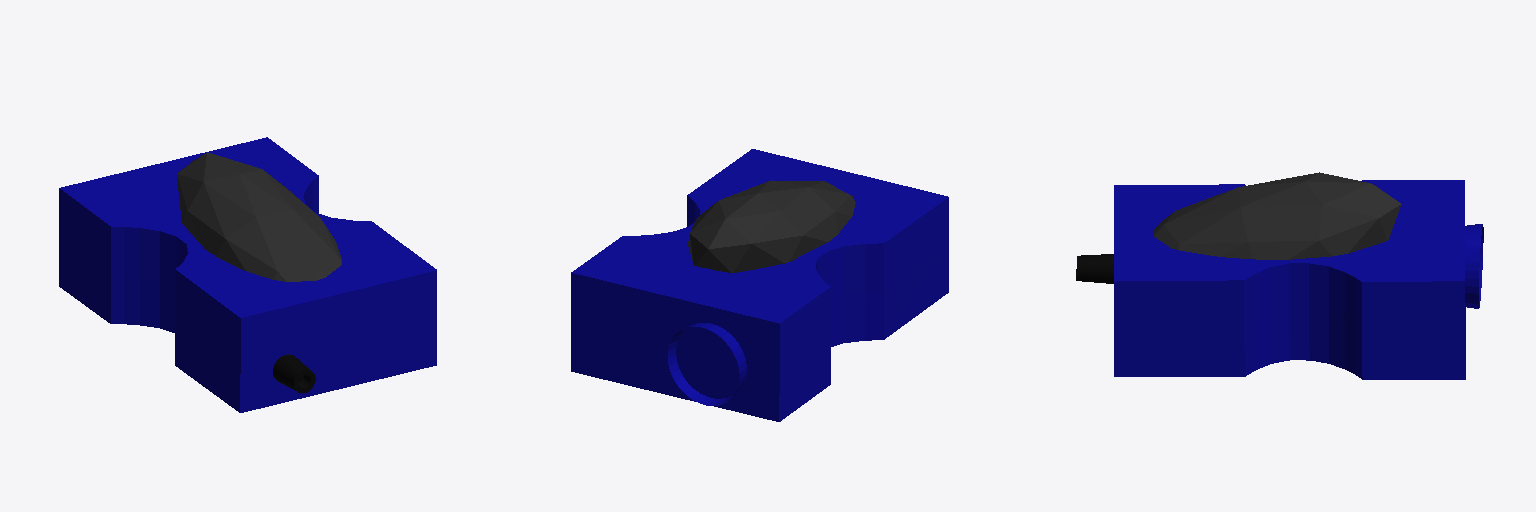
The model's file is NAVESACAPUNTA.obj.
3 views of the same model, side by side, from view 1: azimuth 30°, elevation 25°; view 2: azimuth 150°, elevation 25°; view 3: azimuth 270°, elevation 25° (orthographic).
Visible parts, largest first — view 1: Plane; view 2: Plane; view 3: Plane.
Part boxes in pixels (x1,y1,x2,y2): Plane: (59,137,436,412); Plane: (571,149,948,421); Plane: (1076,172,1483,379).
Size of the model in its own units: 3.93 by 2.63 by 6.66.